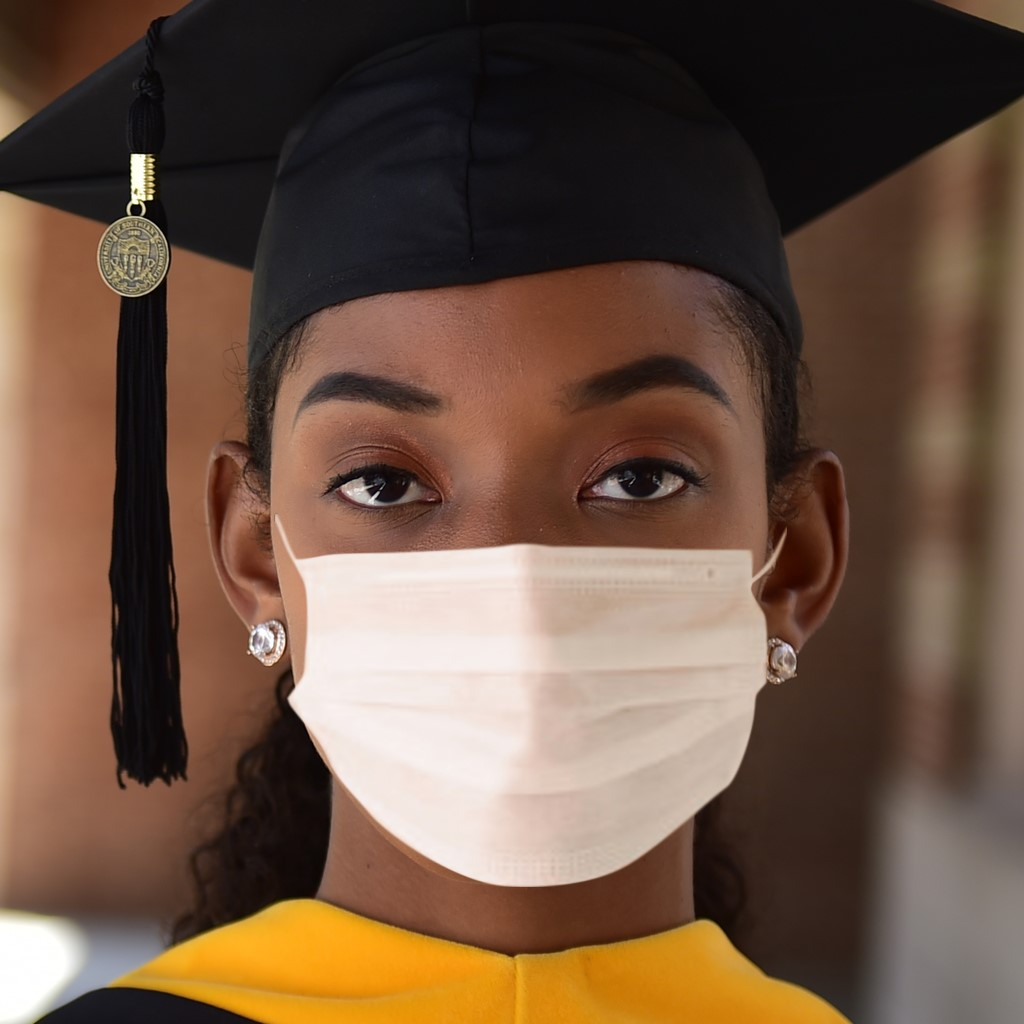con_mascara: (210, 118, 854, 913)
